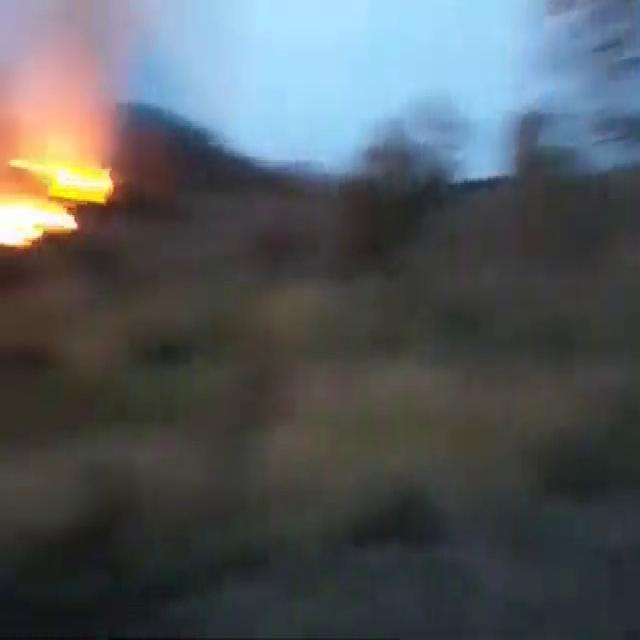Fire: (0, 128, 117, 247)
Smoke: (4, 9, 170, 171)
